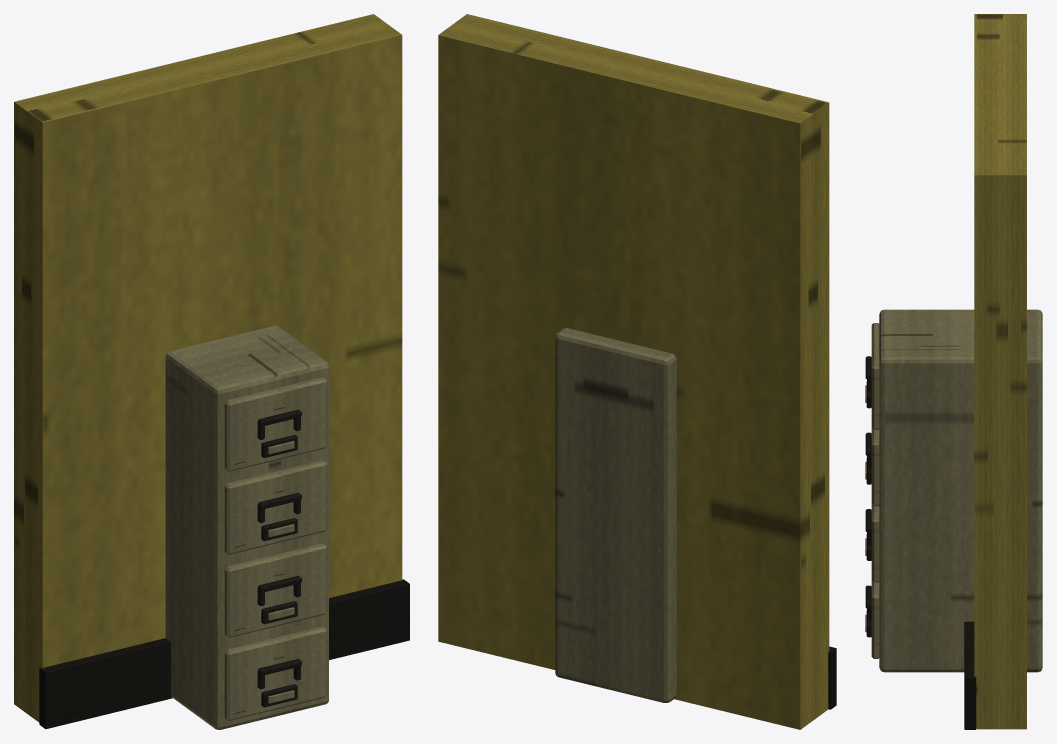
File: wall-clipped-filing-cabinet.glb
3 views of the same model, side by side, from view 1: azimuth 30°, elevation 25°; view 2: azimuth 150°, elevation 25°; view 3: azimuth 270°, elevation 25° (orthographic). The views are drawn at different scales.
Visible parts, largest first — view 1: SM_backrooms_wall_clipped_filing_cabinet_AnomalyAgedWallpape, SM_backrooms_wall_clipped_filing_cabinet_CabinetYellowedPain, SM_backrooms_wall_clipped_filing_cabinet_AnomalyDarkMetal, SM_backrooms_wall_clipped_filing_cabinet_CabinetDarkHardware; view 2: SM_backrooms_wall_clipped_filing_cabinet_AnomalyAgedWallpape, SM_backrooms_wall_clipped_filing_cabinet_CabinetYellowedPain; view 3: SM_backrooms_wall_clipped_filing_cabinet_CabinetYellowedPain, SM_backrooms_wall_clipped_filing_cabinet_AnomalyAgedWallpape, SM_backrooms_wall_clipped_filing_cabinet_CabinetDarkHardware, SM_backrooms_wall_clipped_filing_cabinet_AnomalyDarkMetal.
Boxes of the visible parts, x1,y1,x2,y2 form: SM_backrooms_wall_clipped_filing_cabinet_AnomalyAgedWallpape: [14, 14, 402, 722]; SM_backrooms_wall_clipped_filing_cabinet_CabinetYellowedPain: [165, 325, 328, 729]; SM_backrooms_wall_clipped_filing_cabinet_AnomalyDarkMetal: [39, 579, 409, 728]; SM_backrooms_wall_clipped_filing_cabinet_CabinetDarkHardware: [257, 409, 301, 707]; SM_backrooms_wall_clipped_filing_cabinet_AnomalyAgedWallpape: [438, 14, 829, 729]; SM_backrooms_wall_clipped_filing_cabinet_CabinetYellowedPain: [555, 328, 676, 702]; SM_backrooms_wall_clipped_filing_cabinet_CabinetYellowedPain: [865, 309, 1042, 672]; SM_backrooms_wall_clipped_filing_cabinet_AnomalyAgedWallpape: [974, 14, 1026, 729]; SM_backrooms_wall_clipped_filing_cabinet_CabinetDarkHardware: [865, 356, 871, 637]; SM_backrooms_wall_clipped_filing_cabinet_AnomalyDarkMetal: [964, 621, 976, 729].
Bounding box in the file's own units: 1.47 × 2.32 × 0.674.
4 materials, 4 textured.
